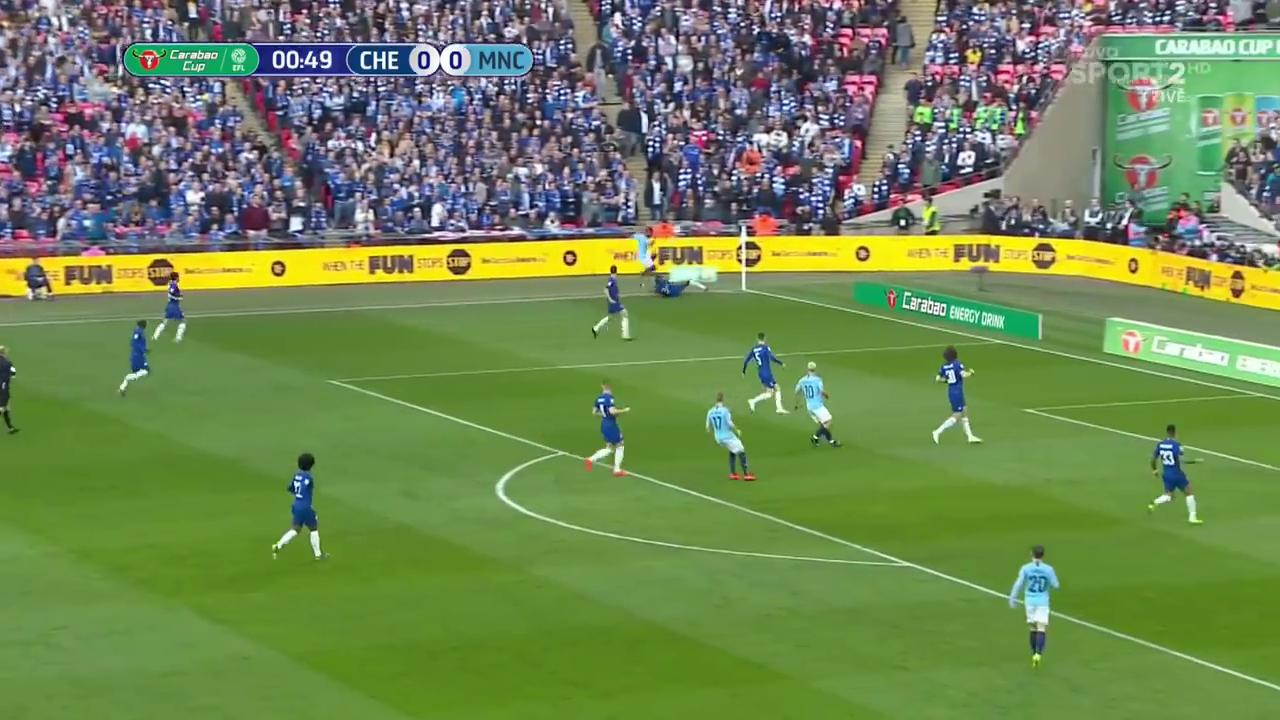player: (266, 449, 336, 569), (1009, 537, 1066, 671), (1146, 422, 1209, 527), (927, 344, 987, 449), (700, 392, 758, 486), (794, 358, 847, 449), (738, 327, 791, 416), (584, 378, 629, 481), (590, 264, 637, 344), (150, 270, 192, 346), (118, 318, 151, 394), (639, 279, 715, 298), (635, 229, 659, 280)
